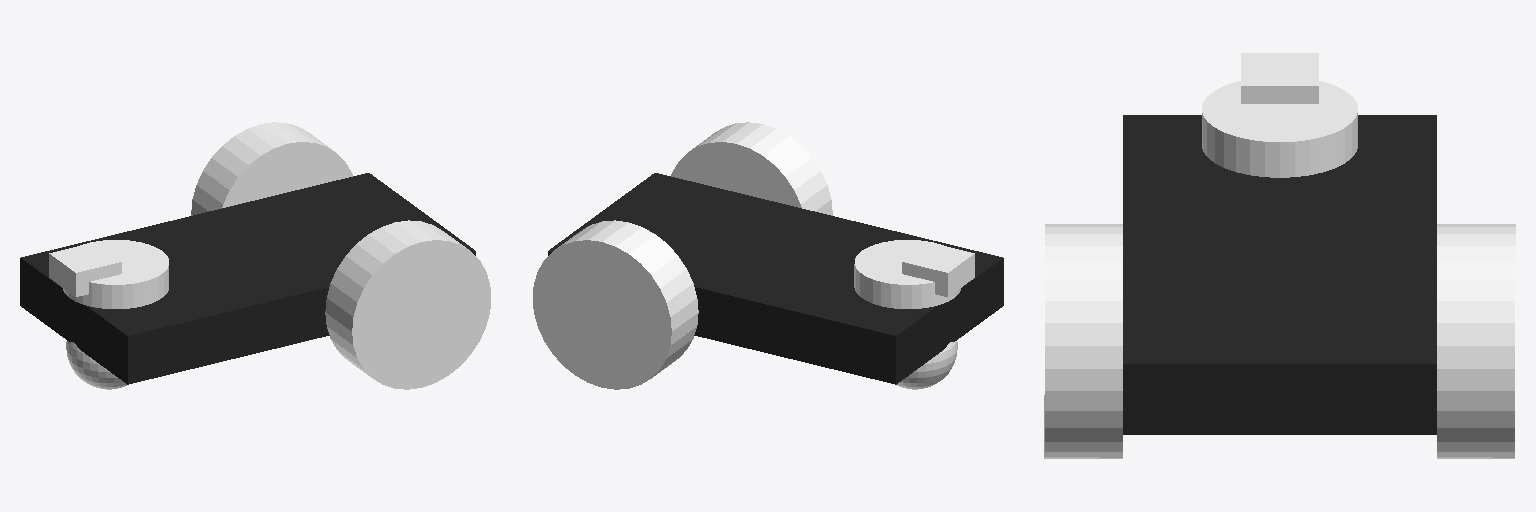
robot.urdf — rehri:
<?xml version="1.0" ?>
  <robot name="rehri">
    <link name="base_footprint"/>

  <link name="base">
    <visual>
      <geometry>
          <box size="0.75 0.4 0.1"/>
      </geometry>
      <material name="gray">
        <color rgba=".2 .2 .2 1" />
      </material>
    </visual>
  <inertial>
            <mass value="1" />
            <inertia ixx="0.01" ixy="0.0" ixz="0" 
            iyy="0.01" iyz="0" izz="0.01" />
    </inertial>
    <collision>
      <geometry>
          <box size="0.75 0.4 0.1"/>
      </geometry>
      
    </collision>
  </link>

  <joint name="base_joint" type="fixed">
    <parent link="base_footprint"/>
    <child link="base"/>
    <origin rpy="0 0 0" xyz="0 0 0.135"/>
  </joint>

  <link name="wheel_right_link">
    <inertial>
            <mass value="2" />
            <inertia ixx="0.01" ixy="0.0" ixz="0" 
            iyy="0.01" iyz="0" izz="0.01" />
    </inertial>

    <visual>
      
      <geometry>
          <cylinder radius="0.15" length="0.1"/>
      </geometry>
      <material name="white">
        <color rgba="1 1 1 1"/>
      </material>
    </visual>

    <collision>
    
      <geometry>
          <cylinder radius="0.15" length="0.1"/>
      </geometry>
      <contact_coefficients mu="1" kp="1e+13" kd="1.0"/>
    </collision>
  </link>

  <joint name="wheel_right_joint" type="continuous">
    <origin xyz="0.2 0.25 0.0" rpy="1.57 0.0 0.0"/>
    <parent link="base"/>
    <child link="wheel_right_link"/>
    <axis xyz="0.0 0.0 1.0"/>
  </joint>

  <link name="wheel_left_link">
    <inertial>
            <mass value="2" />
            <inertia ixx="0.01" ixy="0.0" ixz="0" 
            iyy="0.01" iyz="0" izz="0.01" />
    </inertial>

    <visual>
      
      <geometry>
          <cylinder radius="0.15" length="0.1"/>
      </geometry>
      <material name="white">
        <color rgba="1 1 1 1"/>
      </material>
    </visual>

    <collision>
      <geometry>
          <cylinder radius="0.15" length="0.1"/>
      </geometry>
      <contact_coefficients mu="1" kp="1e+13" kd="1.0"/>
    </collision>
  </link>

  <joint name="wheel_left_joint" type="continuous">
    <origin xyz="0.2 -0.25 0.0" rpy="1.57 0.0 0.0"/>
    <parent link="base"/>
    <child link="wheel_left_link"/>
    <axis xyz="0.0 0.0 1.0"/>

  </joint>



  <link name="caster">
    <inertial>
            <mass value="1" />
            <inertia ixx="0.01" ixy="0.0" ixz="0" 
            iyy="0.01" iyz="0" izz="0.01" />
    </inertial>

    <visual>
    
      <geometry>
        <sphere radius=".08" />
      </geometry>
      <material name="white" />
    </visual>

    <collision>
      <origin/>
      <geometry>
        <sphere radius=".08" />
      </geometry>
    </collision>
  </link>

  <joint name="caster_joint" type="continuous">
    <origin xyz="-0.3 0.0 -0.07" rpy="0.0 0.0 0.0"/>
    <axis xyz="0 0 1" />
    <parent link="base"/>
    <child link="caster"/>
  </joint>
  
  <link name="camera">
    <inertial>
            <mass value="0.1" />
            <inertia ixx="0.01" ixy="0.0" ixz="0" 
            iyy="0.01" iyz="0" izz="0.01" />
    </inertial>

    <visual>
      
      <geometry>
        <box size="0.1 0.1 0.05"/>
      </geometry>
      <material name="white">
        <color rgba="1 1 1 1"/>
      </material>
    </visual>

    <collision>
      <geometry>
          <box size="0.1 0.1 0.05"/>
      </geometry>
    </collision>
  </link>

  <joint name="camera_joint" type="fixed">
    <origin xyz="-0.35 0 0.1" rpy="0 0.0 3.14"/>
    <parent link="base"/>
    <child link="camera"/>
    <axis xyz="0.0 0.0 1.0"/>

  </joint>

  <link name="lidar">
    <inertial>
            <mass value="0.5" />
            <inertia ixx="0.01" ixy="0.0" ixz="0" 
            iyy="0.01" iyz="0" izz="0.01" />
    </inertial>

    <visual>
      
      <geometry>
        <cylinder radius="0.1" length="0.05"/>
      </geometry>
      <material name="white">
        <color rgba="1 1 1 1"/>
      </material>
    </visual>

    <collision>
      <geometry>
          <box size="0.1 0.1 0.1"/>
      </geometry>
    </collision>
  </link>

  <joint name="lidar_joint" type="fixed">
    <origin xyz="-0.285 0 0.075" rpy="0 0.0 1.57"/>
    <parent link="base"/>
    <child link="lidar"/>
    <axis xyz="0.0 0.0 1.0"/>

  </joint>

<link name="imu_link">
  
</link>
<joint name="imu_joint" type="fixed">
  <parent link="base"/>
  <child link="imu_link"/>
</joint>
<!-- Gazebo colors to links as upper defined colors are only visible in RVIZ-->
<gazebo reference="base">
  <material>Gazebo/White</material>
</gazebo>
<gazebo reference="caster">
  <material>Gazebo/Blue</material>
</gazebo>

<gazebo reference="wheel_right_link">
  <material>Gazebo/Red</material>
</gazebo>
<gazebo reference="wheel_left_link">
  <material>Gazebo/Red</material>
</gazebo> 
<!-- DIFFENERNTIAL DRIVEEEEEEEEEEEEE -->

  <gazebo>
    <plugin filename="libgazebo_ros_diff_drive.so" name="gazebo_base_controller">
      <odometry_frame>odom</odometry_frame>
      <commandTopic>cmd_vel</commandTopic>
      <publish_odom>true</publish_odom>
      <publish_odom_tf>true</publish_odom_tf>
      <!-- <publish_wheel_tf>false</publish_wheel_tf> -->
      <update_rate>15.0</update_rate>
      <left_joint>wheel_left_joint</left_joint>
      <right_joint>wheel_right_joint</right_joint>
      <wheel_separation>0.5</wheel_separation>
      <wheel_diameter>0.3</wheel_diameter>
      <max_wheel_acceleration>0.7</max_wheel_acceleration>
      <max_wheel_torque>8</max_wheel_torque>
      <robotBaseFrame>base</robotBaseFrame>
     
      <!-- <ros>
        <argument>odom:=odom_raw</argument>
      </ros> -->
    </plugin>
  </gazebo>
  
<!-- CAMERAAAAAAAAAAAAAAAAAAAAAAAAAAAAAA -->
      <gazebo reference="camera">
    <sensor type="camera" name="camera1">
      <update_rate>30.0</update_rate>
      <camera name="head">
        <horizontal_fov>1.3962634</horizontal_fov>
        <image>
          <width>800</width>
          <height>800</height>
          <format>R8G8B8</format>
        </image>
        <clip>
          <near>0.02</near>
          <far>300</far>
        </clip>
      </camera>
      <plugin name="camera_controller" filename="libgazebo_ros_camera.so">
        <alwaysOn>true</alwaysOn>
        <updateRate>0.0</updateRate>
        <cameraName>/camera</cameraName>
        <imageTopicName>image_raw</imageTopicName>
        <cameraInfoTopicName>camera_info</cameraInfoTopicName>
        <frameName>camera_link</frameName>
        <hackBaseline>0.07</hackBaseline>
      </plugin>
    </sensor>
    <material>Gazebo/Blue</material>
  </gazebo>
  
<!-- LIDAAAAAAAAAAAAAAAAAAAAAAAAAAR -->
   <gazebo reference="lidar">
    <sensor name="gazebo_lidar" type="ray">
     <visualize>false</visualize>
      <update_rate>12.0</update_rate>
      <plugin filename="libgazebo_ros_ray_sensor.so" name="gazebo_lidar">
      <ros>
        <remapping>~/out:=scan</remapping>
      </ros>
      
      <output_type>sensor_msgs/LaserScan</output_type>
      <frame_name>lidar</frame_name>
      </plugin>
      <ray>
        <scan>
          <horizontal>
            <samples>360</samples>
            <resolution>1</resolution>
            <min_angle>0.00</min_angle>
            <max_angle>3.14</max_angle>
          </horizontal>
        </scan>
        <range>
          <min>0.120</min>
          <max>3.5</max>
          <resolution>0.015</resolution>
        </range>
        
      </ray>
    </sensor>
    <material>Gazebo/DarkGrey</material>
  </gazebo>


<!-- imuuuuuuuuuuuuuuuu -->

<gazebo reference="imu_link">
    <gravity>true</gravity>
    <sensor name="imu_sensor" type="imu">
      <always_on>true</always_on>
      <update_rate>100</update_rate>
      <visualize>true</visualize>
      <plugin filename="libgazebo_ros_imu_sensor.so" name="imu_plugin">
        <ros>
            <remapping>~/out:=imu</remapping>
          </ros>
        <topicName>imu</topicName>
        <bodyName>imu_link</bodyName>
        <updateRateHZ>10.0</updateRateHZ>
        <xyzOffset>0 0 0</xyzOffset>
        <rpyOffset>0 0 0</rpyOffset>
        <frameName>imu_link</frameName>
        <initialOrientationAsReference>false</initialOrientationAsReference>
      </plugin>
      <pose>0 0 0 0 0 0</pose>
    </sensor>
  </gazebo>
</robot>

--- Render facts (derived) ---
Views: 3 orthographic renders of the robot side by side, from view 1: azimuth 30°, elevation 25°; view 2: azimuth 150°, elevation 25°; view 3: azimuth 270°, elevation 25°.
Model rehri with 8 links and 7 joints (3 continuous, 4 fixed), rooted at base_footprint, posed every joint at zero.
Visible links, largest first — view 1: base, wheel_left_link, wheel_right_link, lidar, camera, caster; view 2: base, wheel_right_link, wheel_left_link, lidar, camera, caster; view 3: base, wheel_right_link, wheel_left_link, lidar, camera.
Link boxes in pixels (x1=…): base: x1=20, y1=173, x2=475, y2=384; wheel_left_link: x1=325, y1=220, x2=490, y2=389; wheel_right_link: x1=191, y1=122, x2=352, y2=215; lidar: x1=63, y1=240, x2=168, y2=308; camera: x1=49, y1=242, x2=121, y2=296; caster: x1=66, y1=341, x2=126, y2=389; base: x1=548, y1=173, x2=1003, y2=384; wheel_right_link: x1=533, y1=220, x2=698, y2=389; wheel_left_link: x1=671, y1=122, x2=832, y2=215; lidar: x1=854, y1=240, x2=960, y2=308; camera: x1=902, y1=242, x2=974, y2=296; caster: x1=897, y1=341, x2=957, y2=389; base: x1=1123, y1=115, x2=1436, y2=434; wheel_right_link: x1=1437, y1=224, x2=1515, y2=458; wheel_left_link: x1=1044, y1=224, x2=1122, y2=458; lidar: x1=1202, y1=81, x2=1357, y2=177; camera: x1=1241, y1=53, x2=1318, y2=103.
Size in the robot's own frame: 0.7751 by 0.6002 by 0.3001 metres.
Geometry: primitives only (box / cylinder / sphere), no mesh files.
